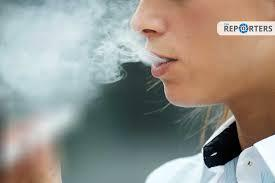smoker: (2, 0, 210, 183)
